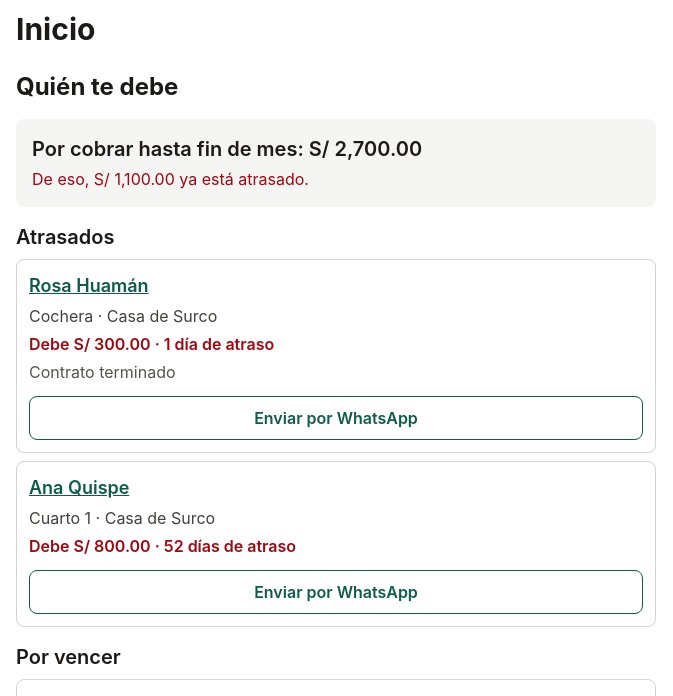
collections panel › opens a lease's charges from the panel
Click the link "Ana Quispe": (162, 516) left=29, top=477, right=296, bottom=556
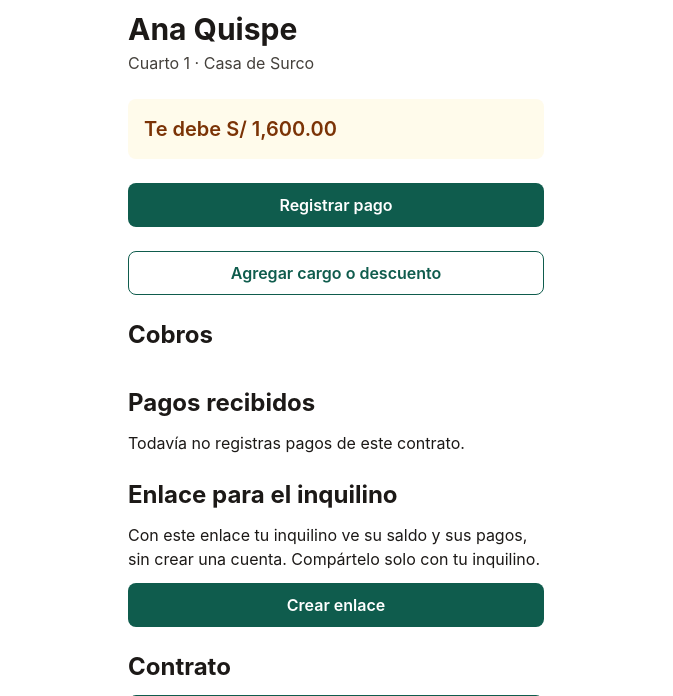
Now the text "Te debe S/ 1,600.00" is shown, box left=128, top=99, right=544, bottom=159
